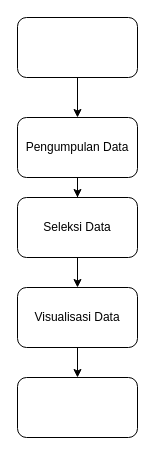
Image size: 155x455. Some labels were removed from this diagram. The shapes that lost their labels are listed below. From the top down, each one's box as (x1, y1, x2, y2) in pixels, then its label:
(16, 16, 138, 78): Latar Belakang
(16, 376, 138, 438): Dashboard Visualisasi
